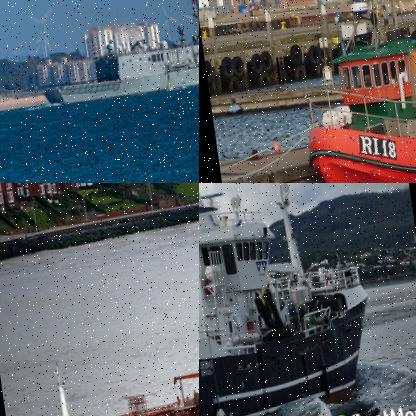Fishing Boat: (199, 183, 385, 415), (258, 0, 415, 182)
Merchant Ship: (22, 240, 198, 415)
Military Ship: (23, 0, 198, 108)
